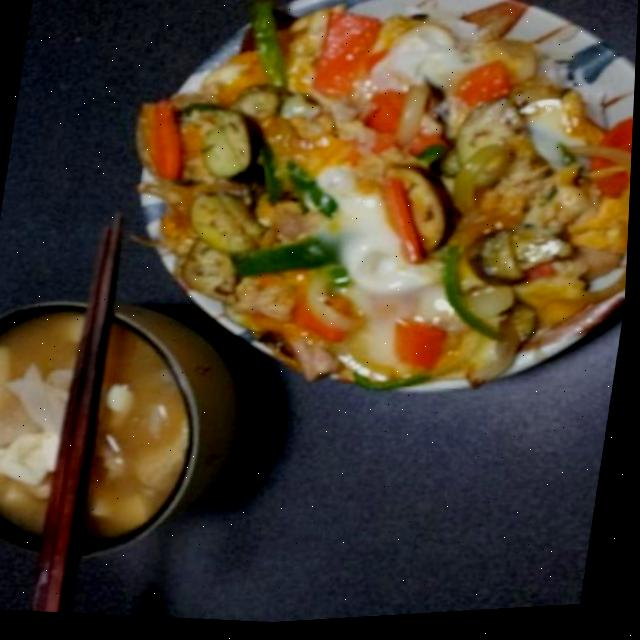汤锅炖物: (0, 269, 294, 601)
蔬菜料理: (84, 0, 640, 461)
